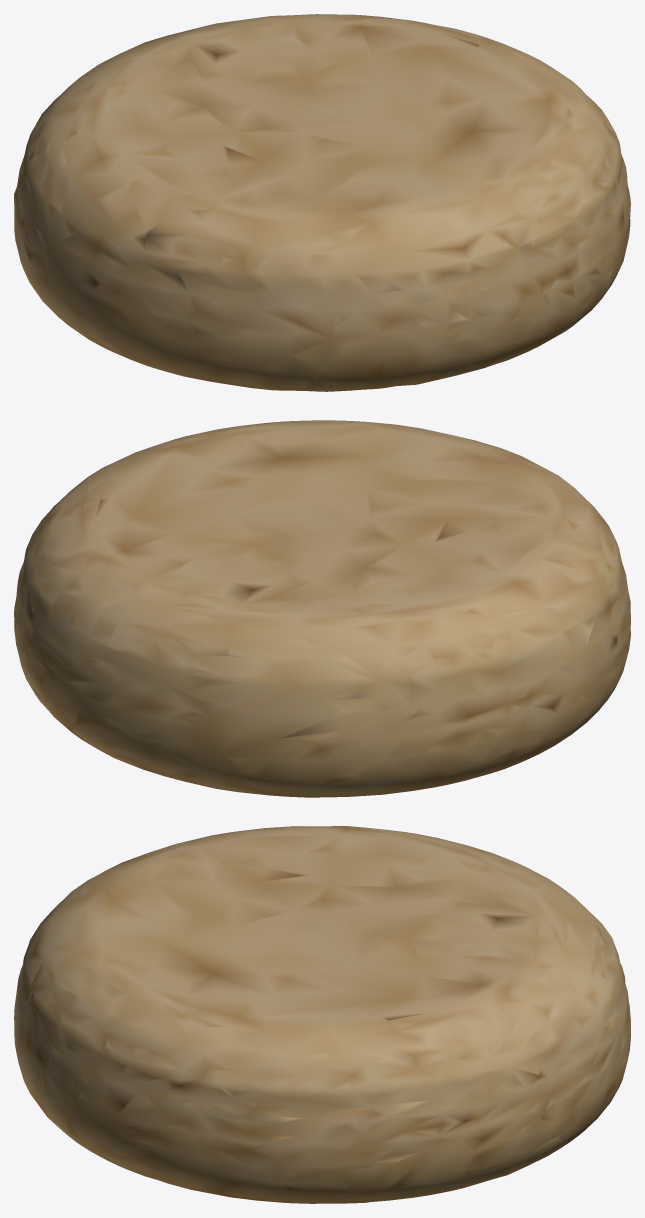
Rendered from cushion-low.glb.
The picture shows the model from 3 angles, top to bottom: view 1: azimuth 30°, elevation 25°; view 2: azimuth 150°, elevation 25°; view 3: azimuth 270°, elevation 25°; orthographic projection.
Parts seen in each view (by area): view 1: cushion-low; view 2: cushion-low; view 3: cushion-low.
Part boxes in pixels (<box>): cushion-low: <box>14,14,630,391</box>; cushion-low: <box>14,420,630,797</box>; cushion-low: <box>14,826,630,1203</box>.
Bounding box in the file's own units: 1 × 0.3063 × 0.9975.
